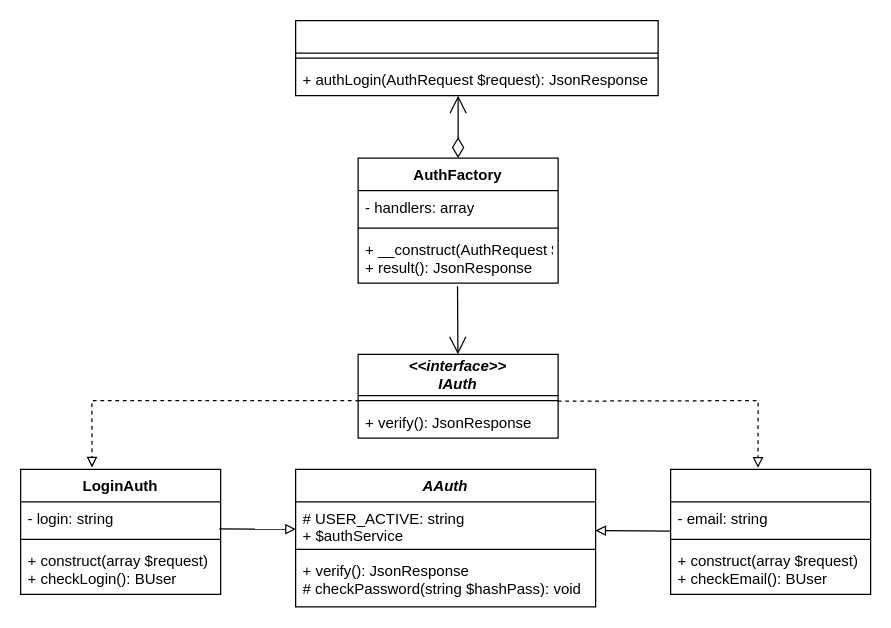
Image size: 891x628. Some labels were removed from this diagram. Each missing label, with the box of its shape:
AuthController: (294, 19, 658, 96)
EmailAuth: (669, 468, 871, 594)
